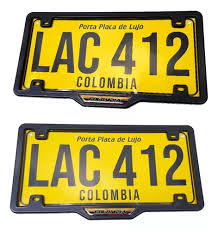number plate: (14, 12, 206, 106), (11, 124, 202, 218)
